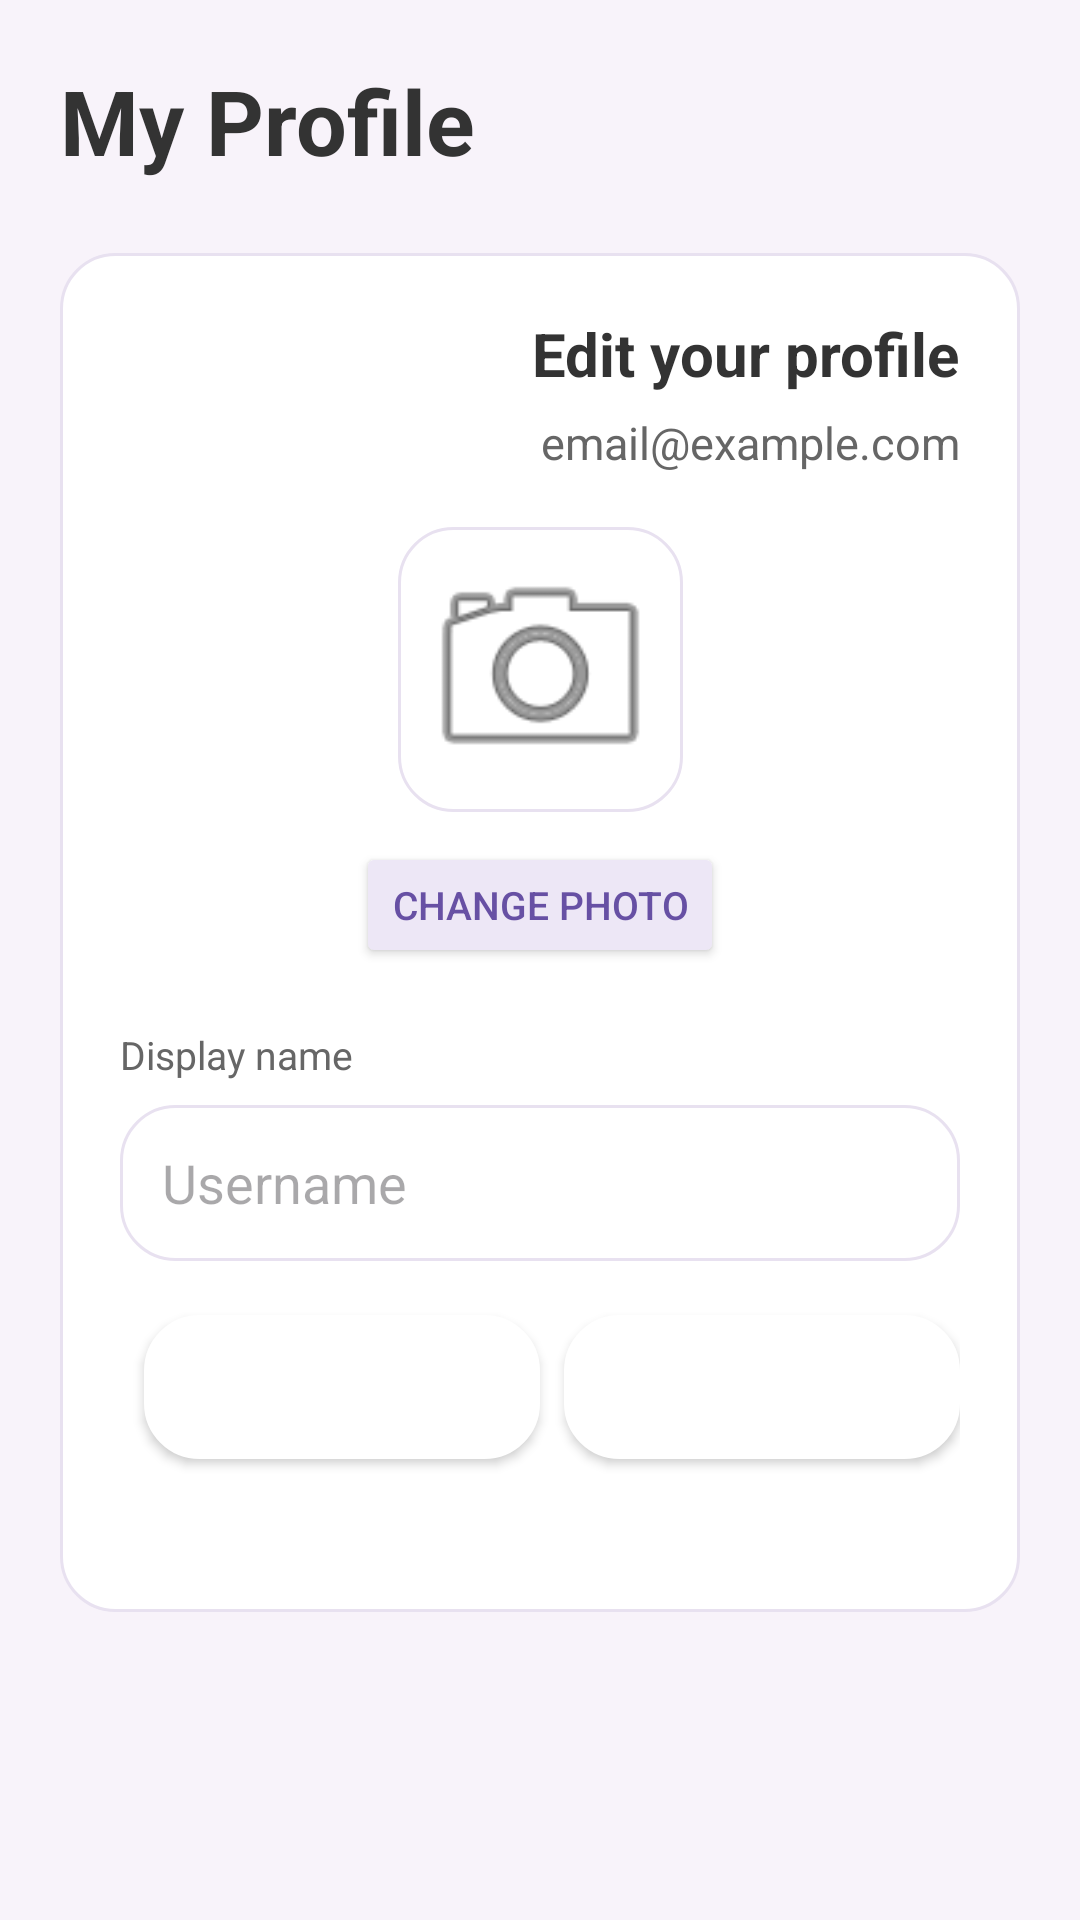

Screen size 1080×1920. Icon name, then its box in pixels as Rect(x1, y1, x2, y2):
camera: Rect(398, 527, 683, 812)
